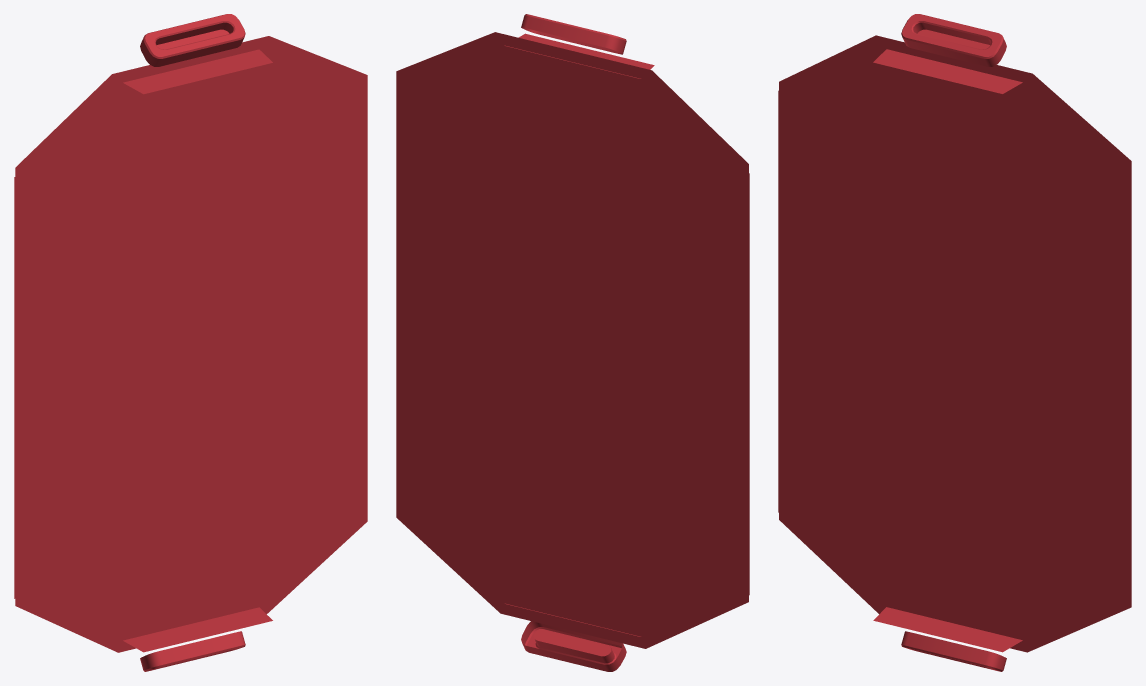
Rendered from bgr_airhockey_ground_geo.glb.
The picture shows the model from 3 angles, left to right: view 1: azimuth 30°, elevation 25°; view 2: azimuth 150°, elevation 25°; view 3: azimuth 330°, elevation 25°; orthographic projection.
Parts seen in each view (by area): view 1: airhockey_ice_Ground, airhockey_Ground, airhockey_front_foundation.001; view 2: airhockey_ice_Ground, airhockey_Ground, airhockey_front_foundation.001; view 3: airhockey_ice_Ground, airhockey_Ground, airhockey_front_foundation.001.
Part boxes in pixels (x1,y1,x2,y2): airhockey_ice_Ground: (14,103,353,598); airhockey_Ground: (15,36,367,652); airhockey_front_foundation.001: (123,14,272,671); airhockey_ice_Ground: (396,87,749,595); airhockey_Ground: (396,32,748,648); airhockey_front_foundation.001: (504,14,654,671); airhockey_ice_Ground: (778,90,1117,586); airhockey_Ground: (779,35,1131,652); airhockey_front_foundation.001: (873,14,1022,671).
Size of the model in its own units: 21.79 by 37.58 by 2.64.
